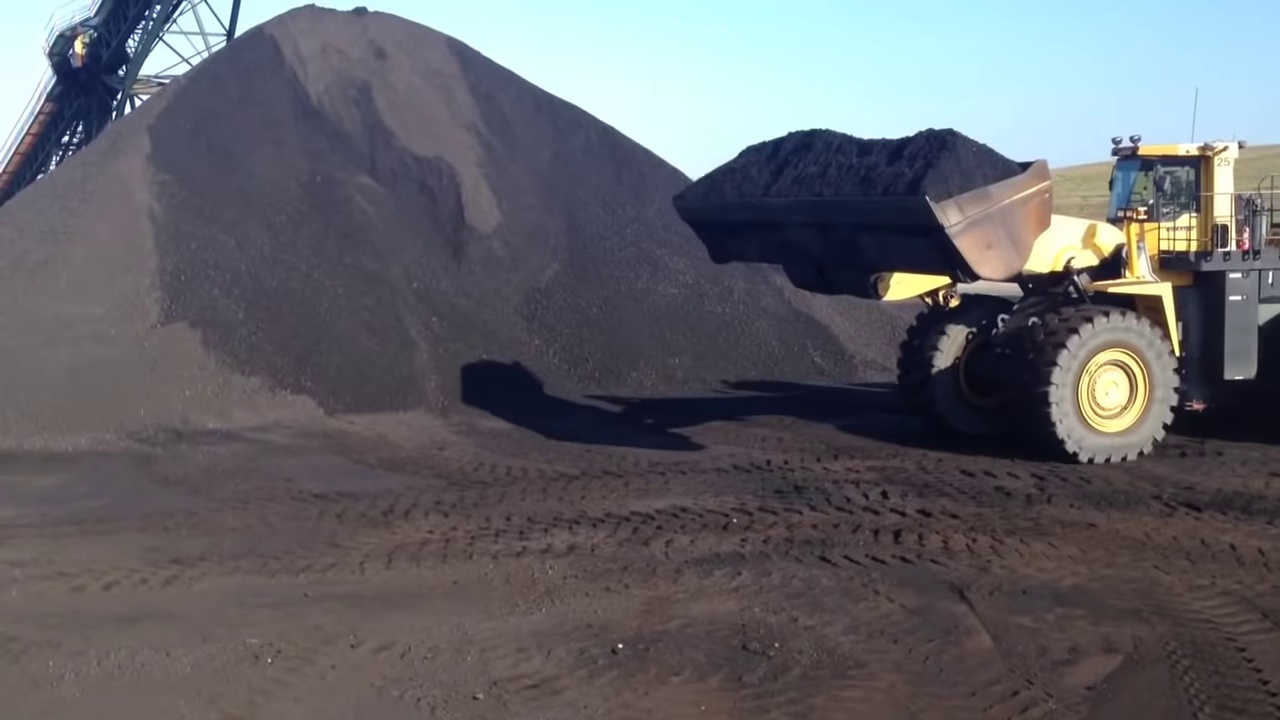wheel loader: (673, 136, 1280, 465)
